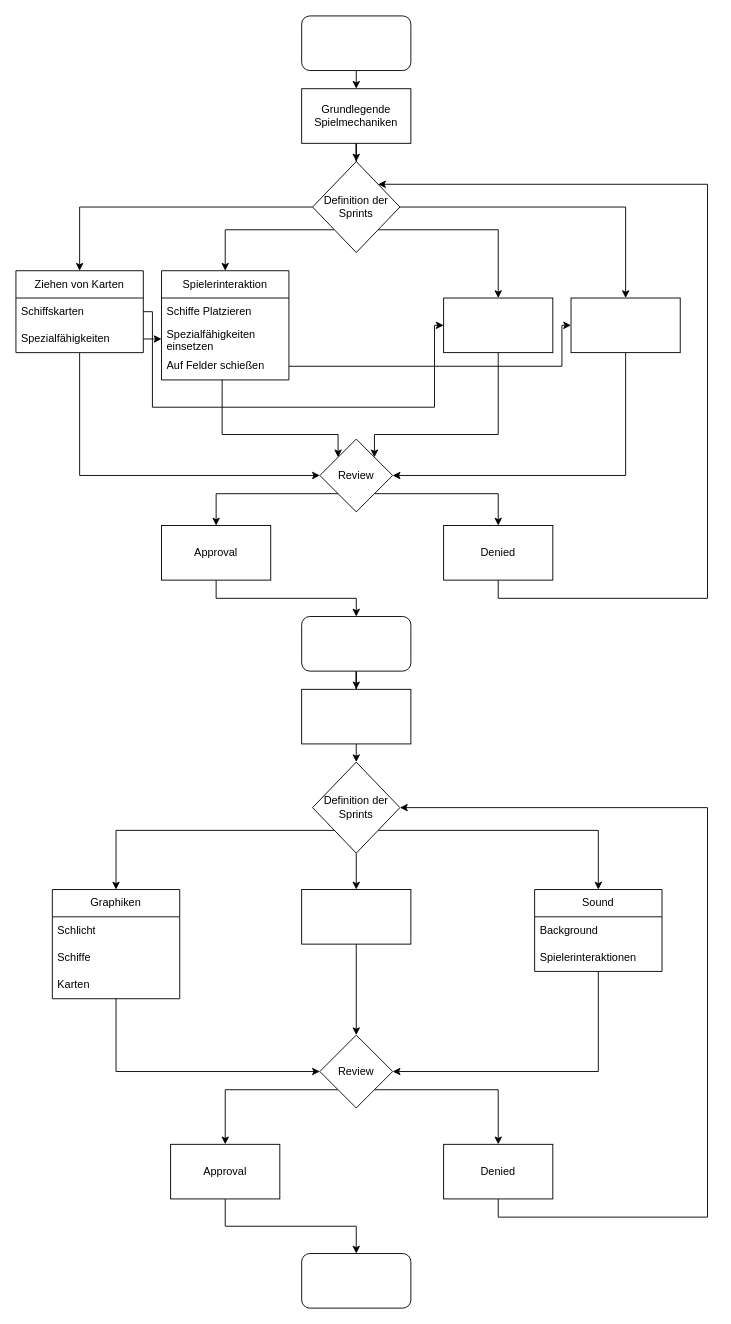
The diagram is 731 pixels wide and 1324 high, and some of its shapes have lost their labels. Here are the shapes that lost their labels. From the top down, the centre of each, then its label:
the point at 356,43: Alpha Phase
the point at 498,325: Unterschiedliche Schiffstypen
the point at 625,325: Zerstörung von Schiffen
the point at 356,643: Beta Phase
the point at 356,716: Features, Texturen und Sounds
the point at 356,916: Fertigstellung der Spielmechaniken
the point at 356,1280: Full Release
